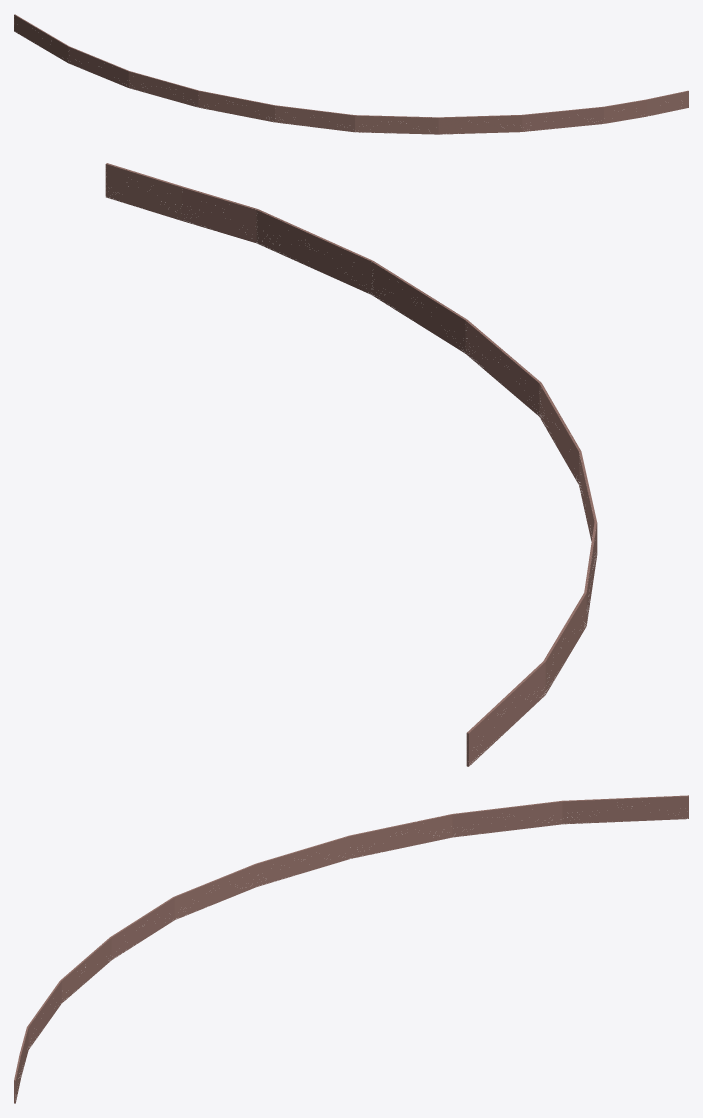
File: SW_ENV_EL_Railing_90dBend_Outer_A_Collision.fbx
The picture shows the model from 3 angles, top to bottom: view 1: azimuth 30°, elevation 25°; view 2: azimuth 150°, elevation 25°; view 3: azimuth 270°, elevation 25°; orthographic projection. The views are drawn at different scales.
Parts seen in each view (by area): view 1: SW_ENV_EL_Railing_90dBend_Outer_A_Collision; view 2: SW_ENV_EL_Railing_90dBend_Outer_A_Collision; view 3: SW_ENV_EL_Railing_90dBend_Outer_A_Collision.
Boxes of the visible parts, x1,y1,x2,y2 form: SW_ENV_EL_Railing_90dBend_Outer_A_Collision: (14, 14, 688, 134); SW_ENV_EL_Railing_90dBend_Outer_A_Collision: (105, 163, 597, 766); SW_ENV_EL_Railing_90dBend_Outer_A_Collision: (14, 795, 688, 1103).
Size of the model in its own units: 2666 by 103 by 2666.
